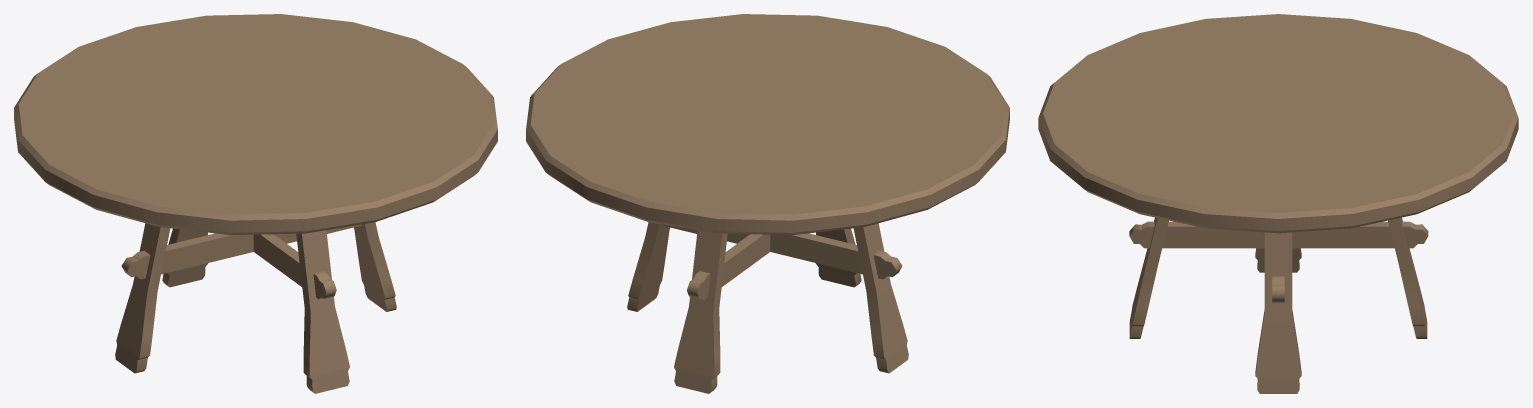
Rendered from tav_table.fbx.
The picture shows the model from 3 angles, left to right: view 1: azimuth 30°, elevation 25°; view 2: azimuth 150°, elevation 25°; view 3: azimuth 270°, elevation 25°; orthographic projection.
Visible parts, largest first — view 1: table_00; view 2: table_00; view 3: table_00.
Part boxes in pixels (x1,y1,x2,y2): table_00: (14, 14, 497, 393); table_00: (526, 14, 1009, 393); table_00: (1038, 14, 1518, 393).
Bounding box in the file's own units: 200 × 100 × 200.
